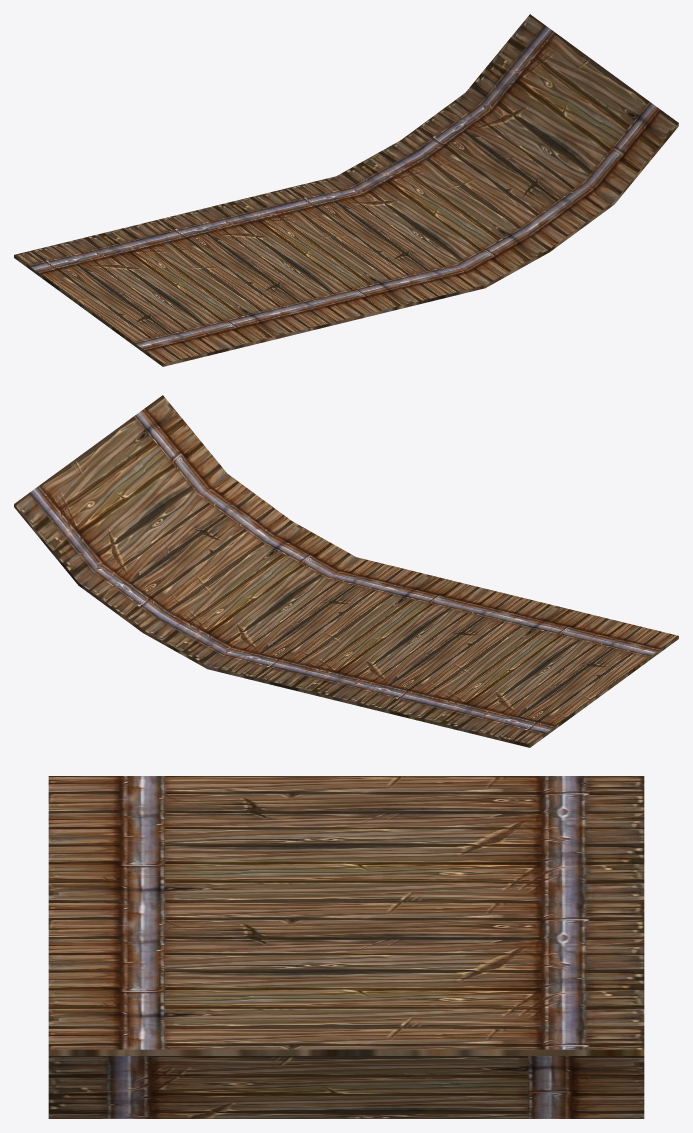
The model's file is Rack.FBX.
3 renders of one model, top to bottom at view 1: azimuth 30°, elevation 25°; view 2: azimuth 150°, elevation 25°; view 3: azimuth 270°, elevation 25°, orthographic. The views are drawn at different scales.
Parts seen in each view (by area): view 1: Box002; view 2: Box002; view 3: Box002.
Part boxes in pixels (left/top/right/bottom): Box002: left=14, top=14, right=678, bottom=366; Box002: left=14, top=395, right=678, bottom=747; Box002: left=48, top=776, right=644, bottom=1118.
Bounding box in the file's own units: 800 × 175 × 400.
1 material, 1 textured.
